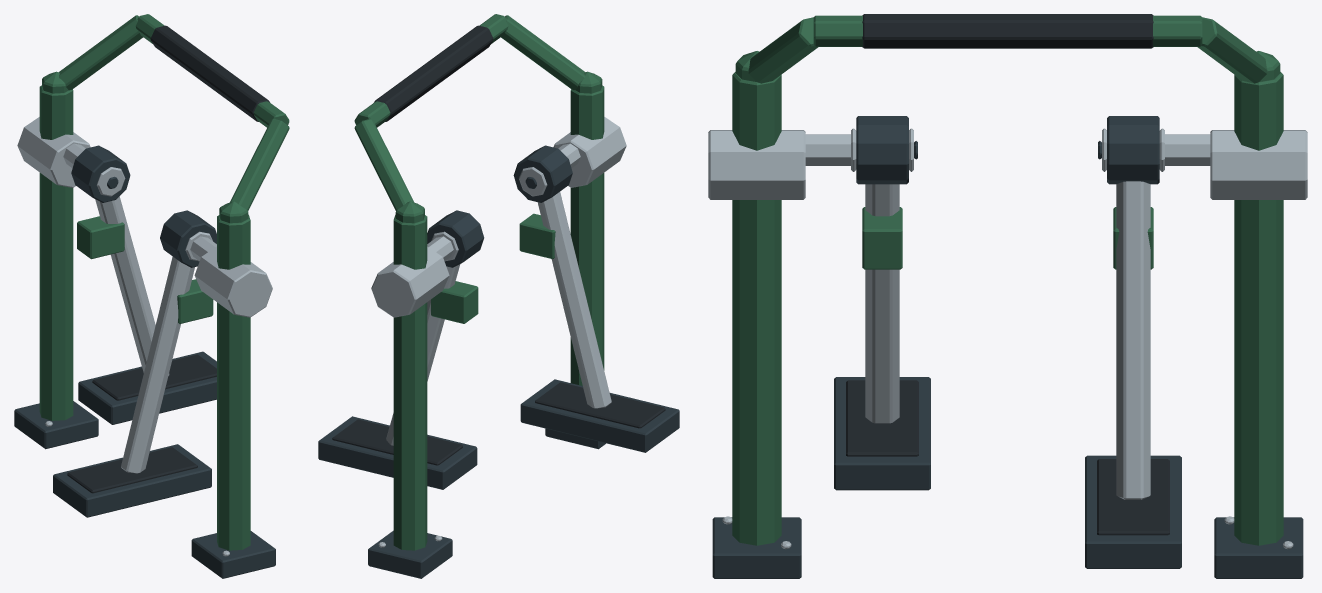
The model's file is b09_air_walker.glb.
The picture shows the model from 3 angles, left to right: view 1: azimuth 30°, elevation 25°; view 2: azimuth 150°, elevation 25°; view 3: azimuth 270°, elevation 25°; orthographic projection. The views are drawn at different scales.
Visible parts, largest first — view 1: b09_air_walker; view 2: b09_air_walker; view 3: b09_air_walker.
Part boxes in pixels (bbox=[...]): b09_air_walker: bbox=[14, 14, 289, 578]; b09_air_walker: bbox=[318, 14, 679, 578]; b09_air_walker: bbox=[708, 14, 1307, 578].
Size of the model in its own units: 0.97 by 1.61 by 1.48.
